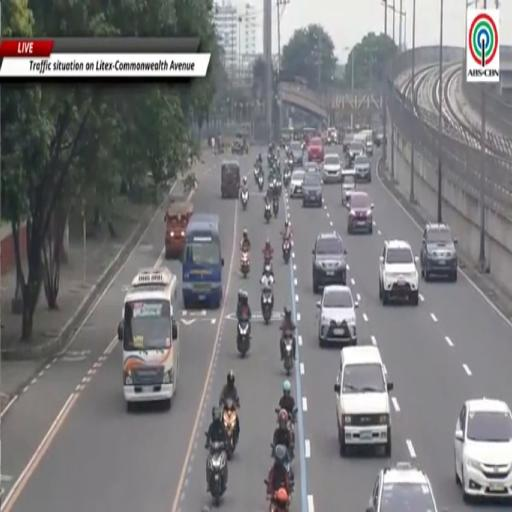bus: (118, 267, 179, 411), (182, 214, 224, 309)
car: (334, 345, 393, 456), (455, 398, 511, 501), (366, 462, 441, 511), (379, 240, 419, 306), (317, 285, 358, 346), (420, 223, 458, 281), (313, 232, 347, 293), (347, 191, 374, 233), (303, 172, 322, 207), (322, 154, 342, 183), (342, 169, 356, 205), (354, 155, 371, 183), (289, 170, 305, 198), (307, 137, 324, 163), (348, 139, 363, 166), (290, 141, 303, 166), (343, 133, 353, 154), (327, 127, 338, 146), (365, 136, 374, 157), (304, 162, 319, 173)
jeepney: (165, 199, 193, 259), (341, 168, 356, 206), (232, 133, 248, 154)
motorcycle: (207, 442, 227, 506), (271, 444, 294, 493), (223, 398, 238, 459), (237, 318, 250, 357), (288, 408, 297, 460), (261, 288, 273, 325), (283, 336, 294, 376), (268, 492, 290, 511), (240, 251, 250, 278), (282, 239, 291, 264), (264, 203, 272, 223), (256, 173, 264, 192), (241, 189, 248, 210), (283, 170, 291, 188), (263, 251, 272, 267), (254, 164, 262, 181), (273, 198, 279, 217), (276, 180, 282, 197), (288, 156, 293, 168)
